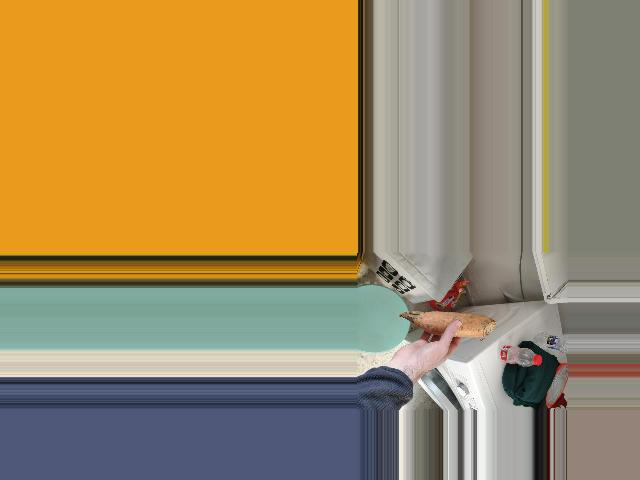sweet_potato: (397, 309, 499, 344)
